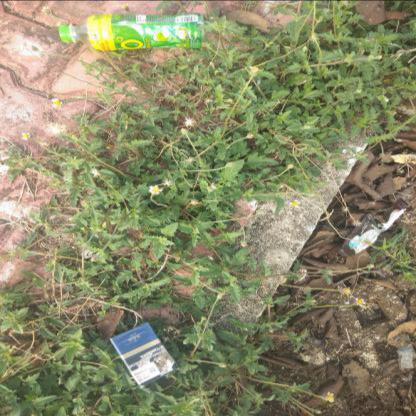Bottle: (58, 24, 71, 42)
Bottle cap: (58, 12, 205, 51)
Carton: (110, 322, 179, 388)
Plastic bag - wrapper: (338, 197, 408, 257), (396, 334, 416, 369), (290, 268, 312, 295)
